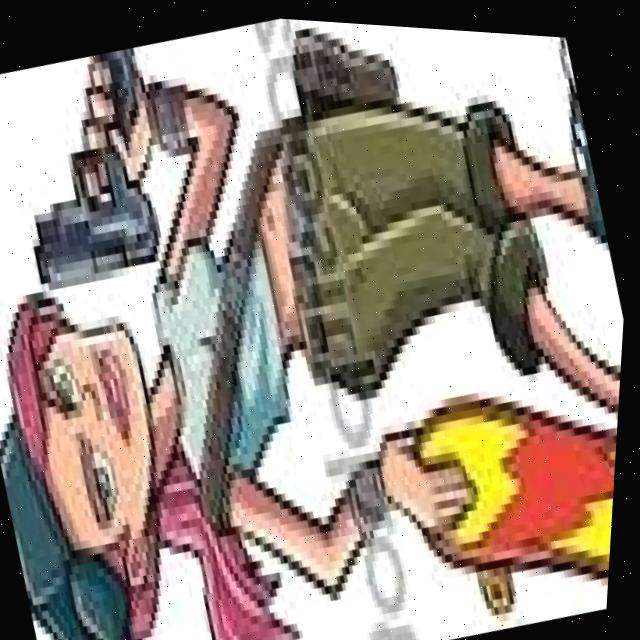pistol: (0, 39, 186, 299)
